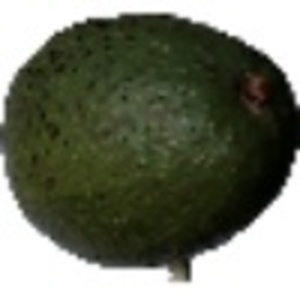abacate: (2, 8, 296, 267)
